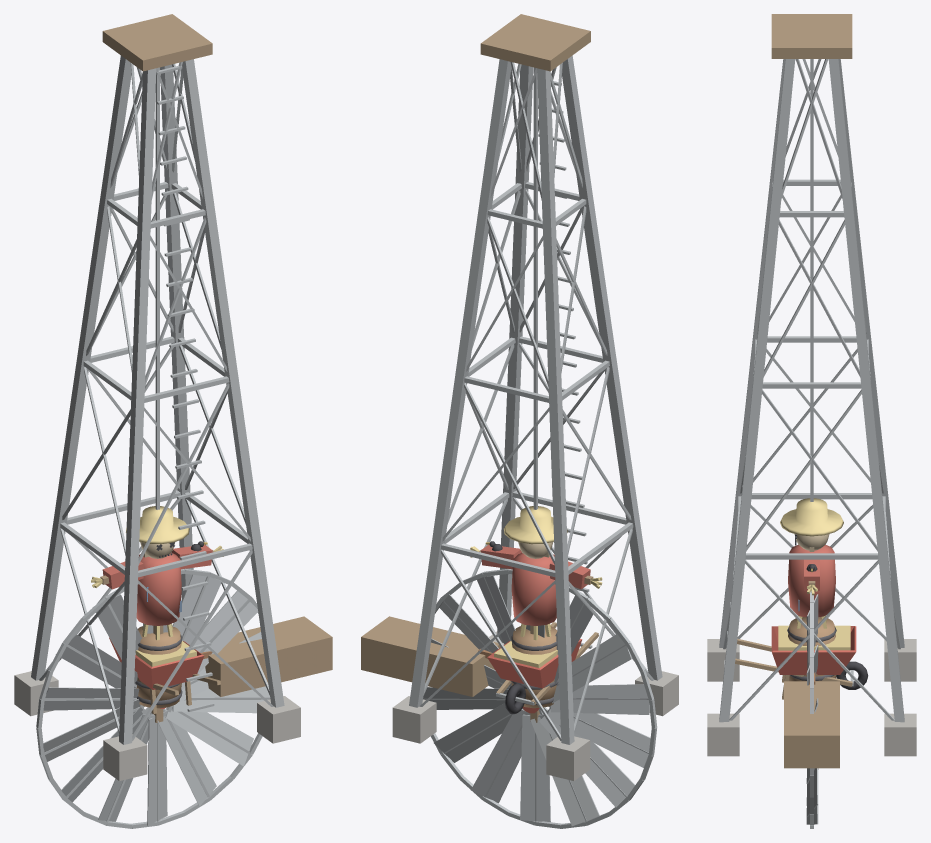
Rendered from farm_props.glb.
The picture shows the model from 3 angles, left to right: view 1: azimuth 30°, elevation 25°; view 2: azimuth 150°, elevation 25°; view 3: azimuth 270°, elevation 25°; orthographic projection.
Parts seen in each view (by area): view 1: fp_windpump_mesh, fp_wheel_mesh, fp_scarecrow_mesh, fp_barrow_mesh, fp_barrel_mesh; view 2: fp_windpump_mesh, fp_wheel_mesh, fp_scarecrow_mesh, fp_barrow_mesh, fp_barrel_mesh; view 3: fp_windpump_mesh, fp_scarecrow_mesh, fp_barrow_mesh, fp_wheel_mesh, fp_barrel_mesh.
Boxes of the visible parts, box(x1,y1,x2,y2) form: fp_windpump_mesh: box(14, 14, 332, 780); fp_wheel_mesh: box(36, 568, 270, 828); fp_scarecrow_mesh: box(91, 506, 223, 722); fp_barrow_mesh: box(109, 637, 220, 714); fp_barrel_mesh: box(135, 626, 182, 708); fp_windpump_mesh: box(361, 14, 678, 780); fp_wheel_mesh: box(423, 569, 657, 828); fp_scarecrow_mesh: box(470, 506, 602, 722); fp_barrow_mesh: box(487, 622, 598, 714); fp_barrel_mesh: box(511, 626, 558, 708); fp_windpump_mesh: box(707, 14, 916, 768); fp_scarecrow_mesh: box(780, 498, 843, 628); fp_barrow_mesh: box(735, 625, 868, 699); fp_wheel_mesh: box(806, 591, 818, 828); fp_barrel_mesh: box(787, 617, 836, 681).
Size of the model in its own units: 4.02 by 10.77 by 2.6.
